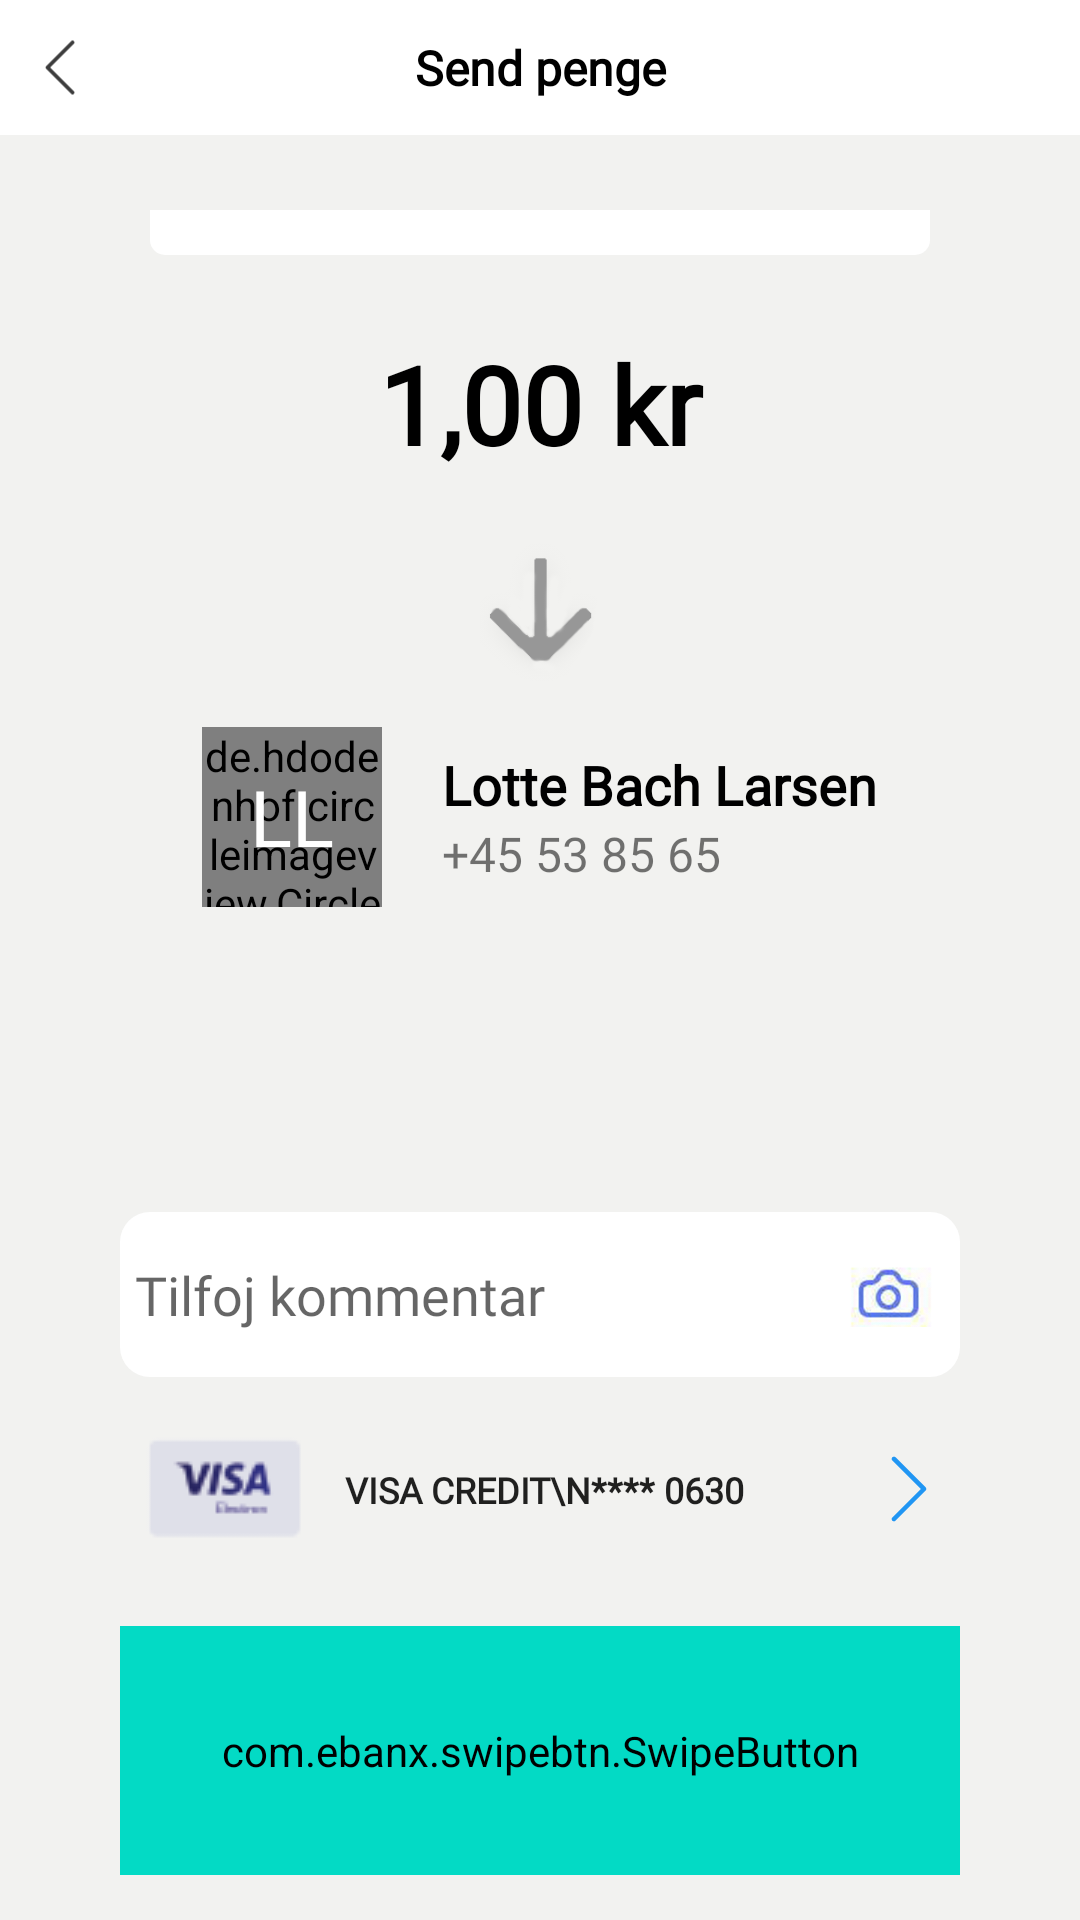

Icon bounding boxes for this 1080*1920 phone screenshot, format rect(x1, y1, x2, y2):
arrowapp: rect(490, 558, 591, 661)
camera: rect(851, 1268, 927, 1327)
